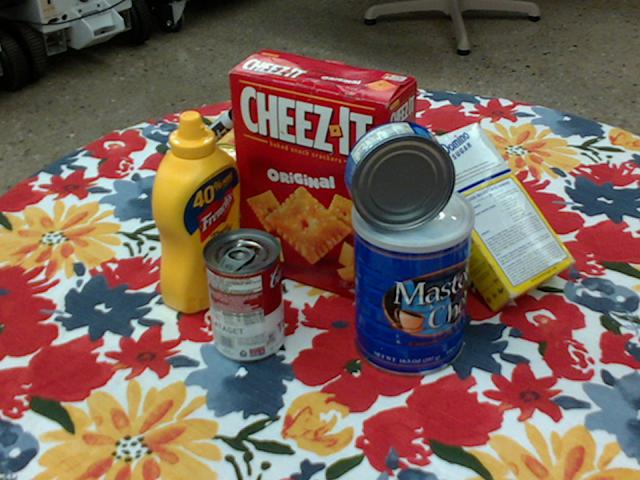cracker_box: (230, 49, 419, 303)
gelatin_box: (236, 141, 318, 207)
large_marker: (180, 96, 256, 163)
master_chef_can: (350, 183, 473, 379)
mug: (382, 138, 470, 240)
mustard_bottle: (151, 112, 244, 314)
potted_meat_can: (165, 143, 254, 255)
sugar_box: (397, 123, 577, 314)
tomato_soup_can: (201, 228, 284, 362)
tuna_fish_can: (346, 121, 457, 232)
